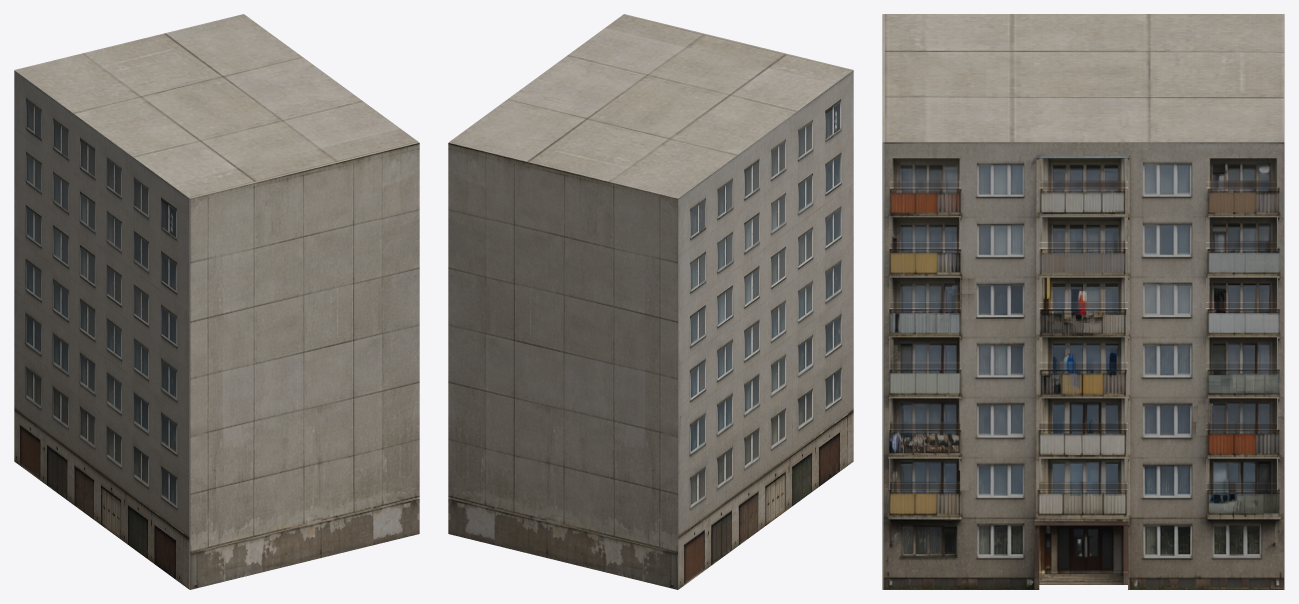
The model's file is building-1.glb.
The picture shows the model from 3 angles, left to right: view 1: azimuth 30°, elevation 25°; view 2: azimuth 150°, elevation 25°; view 3: azimuth 270°, elevation 25°; orthographic projection. The views are drawn at different scales.
Parts seen in each view (by area): view 1: Cube; view 2: Cube; view 3: Cube.
Part boxes in pixels (bbox=[...]): Cube: bbox=[14, 14, 419, 589]; Cube: bbox=[448, 14, 853, 589]; Cube: bbox=[882, 14, 1284, 589].
Size of the model in its own units: 11.39 by 18.51 by 15.09.
Materials: 2 (2 with a texture image).
